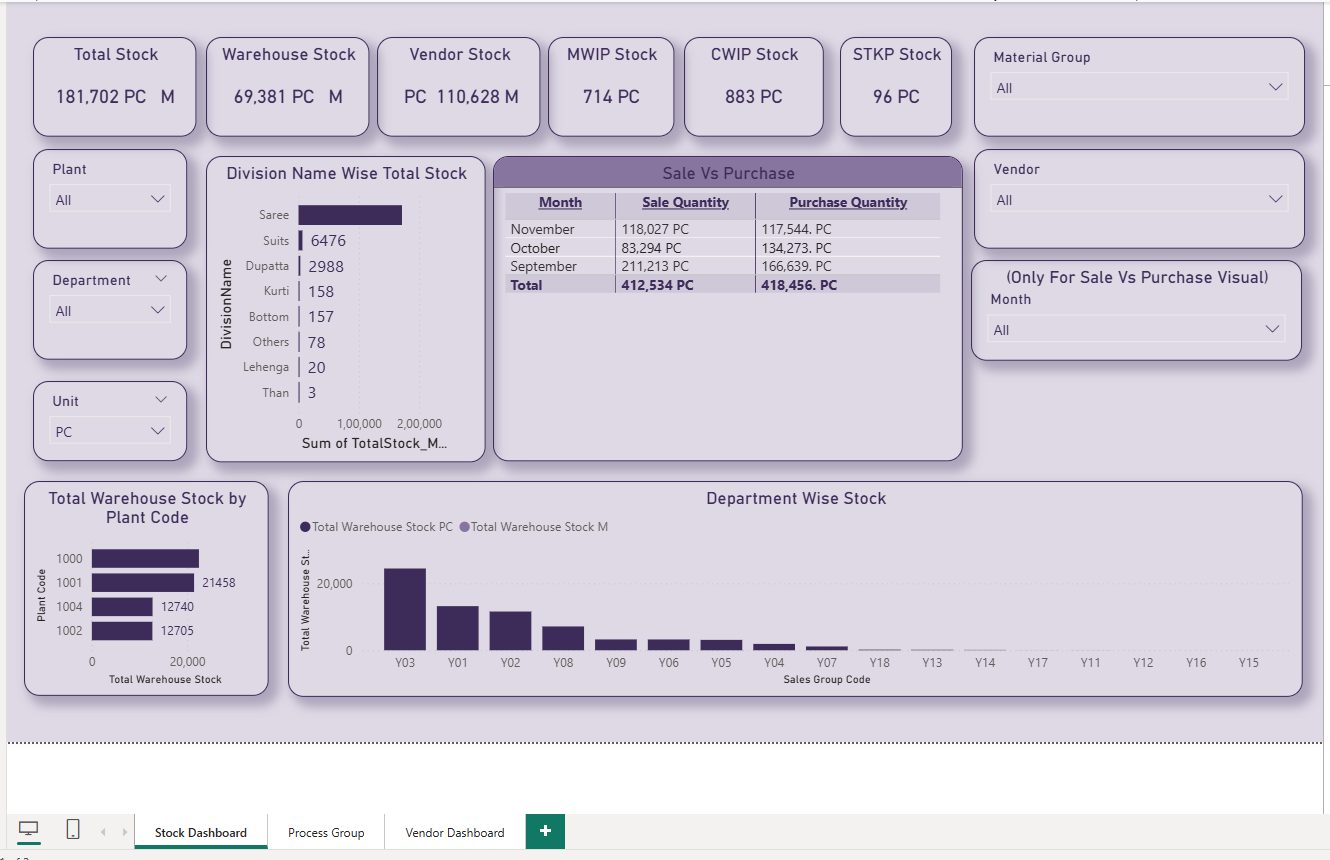

What the dashboard file says about the page in this screenshot:
{"tool":"powerbi","page":{"name":"Stock Dashboard","canvas":[1280,720],"ordinal":0},"visuals":[{"type":"card","title":"Total Stock","fields":{"Values":["yngs_123 materialdata.Total Stock (PC + MTR)_1"]},"box":[25.5,33.7,159.4,97.5],"z":0},{"type":"card","title":"Warehouse Stock","fields":{"Values":["Calendar.Total Warehouse Stock (PC + MTR)"]},"box":[193.1,33.7,159.4,97.5],"z":1000},{"type":"card","title":"Vendor Stock","fields":{"Values":["yngs_123 materialdata.Total Vendor Stock (PC + MTR)"]},"box":[359.9,33.7,159.4,97.5],"z":2000},{"type":"card","title":"MWIP Stock","fields":{"Values":["yngs_123 materialdata.Total MWIP Stock (PC + MTR)"]},"box":[526.6,33.7,123,97.5],"z":3000},{"type":"card","title":"CWIP Stock","fields":{"Values":["yngs_123 materialdata.CWIP Stock (PC + MTR)"]},"box":[658.7,33.7,135.7,97.5],"z":4000},{"type":"card","title":"STKP Stock","fields":{"Values":["yngs_123 materialdata.STKP Stock (PC + MTR)"]},"box":[809.9,33.7,109.3,97.5],"z":5000},{"type":"slicer","fields":{"Values":["Department.Sales Group Code"]},"box":[25.3,250.9,149.8,97.3],"z":6000},{"type":"slicer","fields":{"Values":["Plant.Plant"]},"box":[25.3,143,149.8,97.3],"z":7000},{"type":"clusteredBarChart","fields":{"Y":["yngs_123 materialdata.Total Warehouse Stock"],"Category":["Plant.Plant Code"]},"box":[16.5,465.9,238.3,209.1],"z":8000},{"type":"slicer","fields":{"Values":["yngs_123 vendorpurchasedesign.PurchaseDesign"]},"box":[940.5,34,321.9,97.3],"z":9000},{"type":"slicer","fields":{"Values":["Unit Of Measurment.UOM"]},"box":[25.3,368.6,149.8,77.8],"z":10000},{"type":"slicer","fields":{"Values":["yngs_123 vendormaster.VendorCode"]},"box":[940.5,143,321.9,97.3],"z":11000},{"type":"slicer","title":"(Only For Sale Vs Purchase Visual)","fields":{"Values":["DateTable.Month Name"]},"box":[938.1,250.5,321.8,97.8],"z":12000},{"type":"clusteredBarChart","title":"Division Name Wise Total Stock","fields":{"Y":["Sum(yngs_123 materialdata.TotalStock_Material)"],"Category":["yngs_123 materialdata.DivisionName"]},"box":[193.2,150,272,297.9],"z":13000},{"type":"tableEx","title":"Sale Vs Purchase","fields":{"Values":["DateTable.Month Name","yngs_123 vbrp_salesdata.Total Sales By Unit","yngs_123 mb51.MB51_Qty_PC_M"]},"box":[472.7,149.8,457.1,296.7],"z":14000},{"type":"columnChart","title":"Department Wise Stock","fields":{"Category":["Department.Sales Group Code"],"Y":["yngs_123 materialdata.Total Warehouse Stock PC","Calendar.Total Warehouse Stock M"]},"box":[273.2,465.8,986.7,209.6],"z":15000}]}

Visuals, with their boxes in screenshot pixels (x1, y1, x2, y2):
"Total Stock" card: bbox(33, 35, 196, 134)
"Warehouse Stock" card: bbox(205, 35, 368, 134)
"Vendor Stock" card: bbox(376, 35, 539, 134)
"MWIP Stock" card: bbox(547, 35, 673, 134)
"CWIP Stock" card: bbox(682, 35, 821, 134)
"STKP Stock" card: bbox(837, 35, 949, 134)
slicer - Department.Sales Group Code: bbox(33, 257, 186, 357)
slicer - Plant.Plant: bbox(33, 147, 186, 246)
clusteredBarChart - yngs_123 materialdata.Total Warehouse Stock x Plant.Plant Code: bbox(24, 477, 268, 692)
slicer - yngs_123 vendorpurchasedesign.PurchaseDesign: bbox(971, 35, 1301, 135)
slicer - Unit Of Measurment.UOM: bbox(33, 378, 186, 457)
slicer - yngs_123 vendormaster.VendorCode: bbox(971, 147, 1301, 246)
"(Only For Sale Vs Purchase Visual)" slicer: bbox(968, 257, 1298, 357)
"Division Name Wise Total Stock" clusteredBarChart: bbox(205, 154, 484, 459)
"Sale Vs Purchase" tableEx: bbox(491, 154, 960, 458)
"Department Wise Stock" columnChart: bbox(287, 477, 1298, 692)
